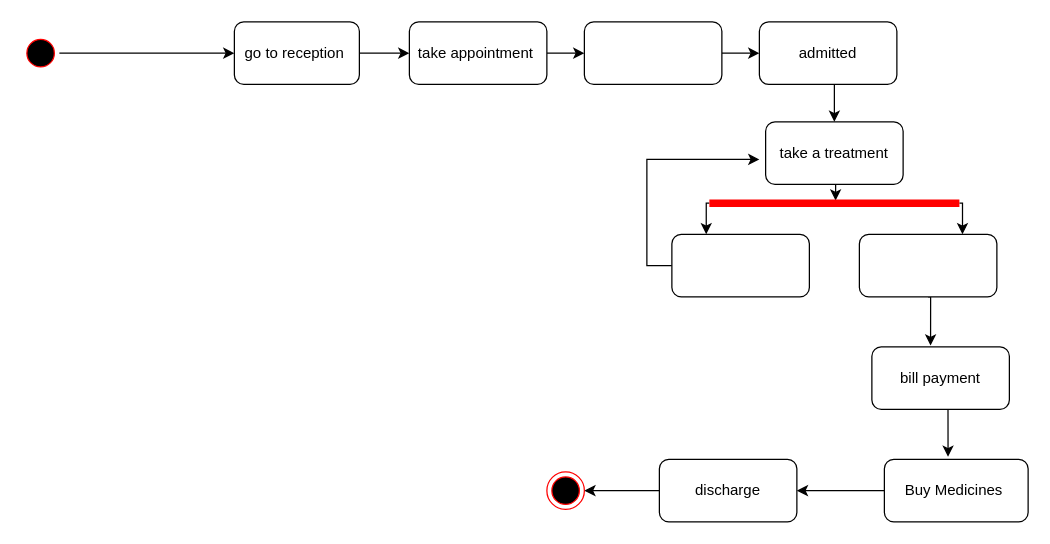
The diagram is 1050 pixels wide and 544 high, and some of its shapes have lost their labels. The shapes that lost their labels are listed below. From the top down, each one's box as (x1, y1, x2, y2) in pixels, then its label:
(583, 21, 722, 84): checkup
(671, 233, 809, 297): not cured
(858, 233, 997, 297): cured
